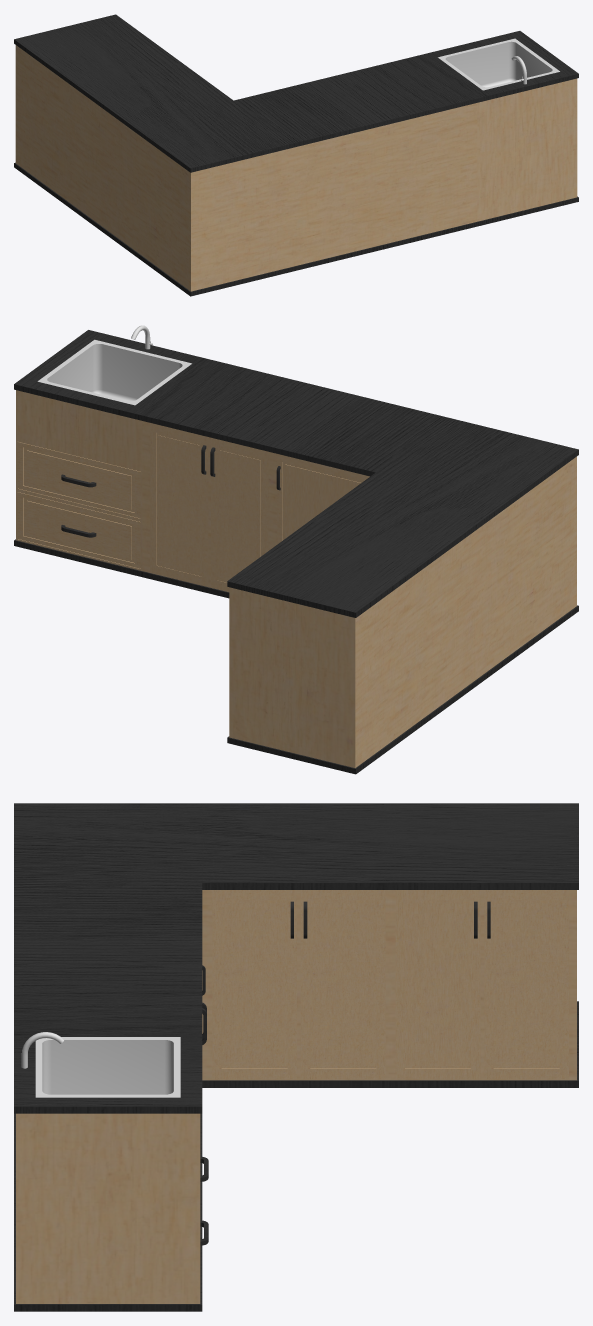
Rendered from сorner_kitchen.glb.
3 views of the same model, one above another, from view 1: azimuth 30°, elevation 25°; view 2: azimuth 150°, elevation 25°; view 3: azimuth 270°, elevation 25° (orthographic). The views are drawn at different scales.
Visible parts, largest first — view 1: сorner_kitchen; view 2: сorner_kitchen, hatch_1_1, hatch_1_2, latch_1, latch_1_1, hatch_2; view 3: сorner_kitchen, hatch_3_2, hatch_4_1, hatch_3_1, hatch_4_2.
Part boxes in pixels (bbox=[...]): сorner_kitchen: bbox=[14, 14, 578, 296]; сorner_kitchen: bbox=[14, 325, 578, 774]; hatch_1_1: bbox=[150, 423, 208, 586]; hatch_1_2: bbox=[210, 438, 268, 591]; latch_1: bbox=[17, 442, 140, 518]; latch_1_1: bbox=[17, 492, 140, 568]; hatch_2: bbox=[276, 456, 367, 544]; сorner_kitchen: bbox=[14, 803, 578, 1311]; hatch_3_2: bbox=[300, 890, 385, 1079]; hatch_4_1: bbox=[395, 890, 480, 1079]; hatch_3_1: bbox=[212, 890, 296, 1079]; hatch_4_2: bbox=[484, 890, 568, 1079].
Size of the model in its own units: 3.81 by 1.41 by 3.
Materials: 5 (5 with a texture image).
